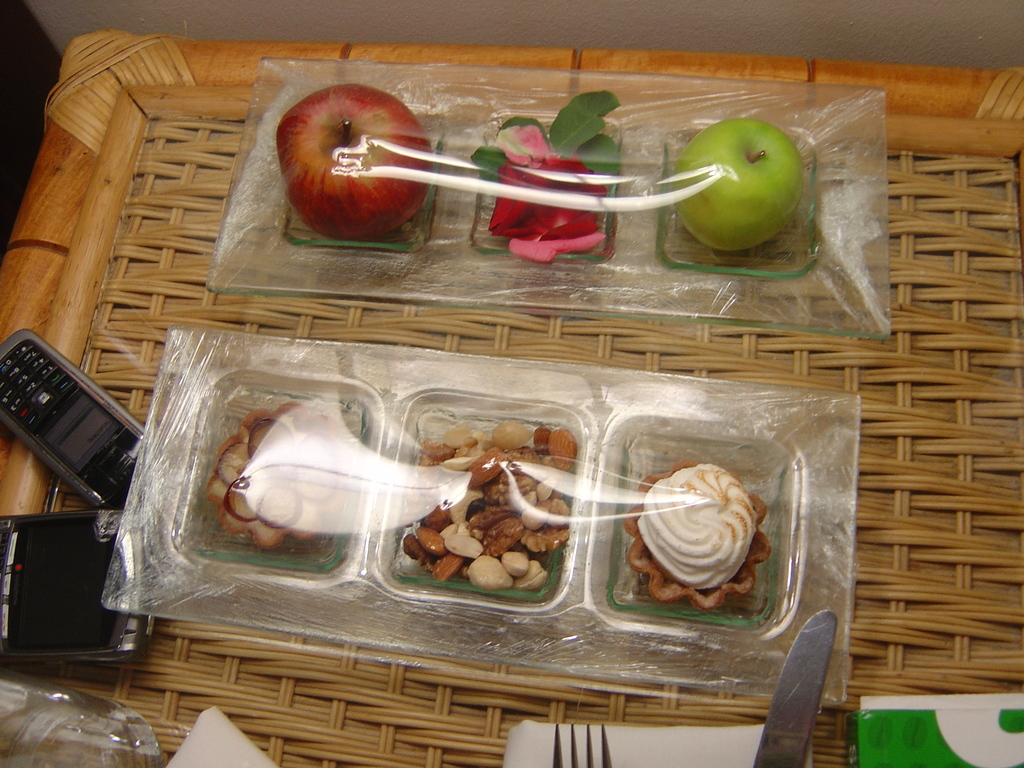Apple: (278, 82, 435, 241), (670, 115, 812, 254)
